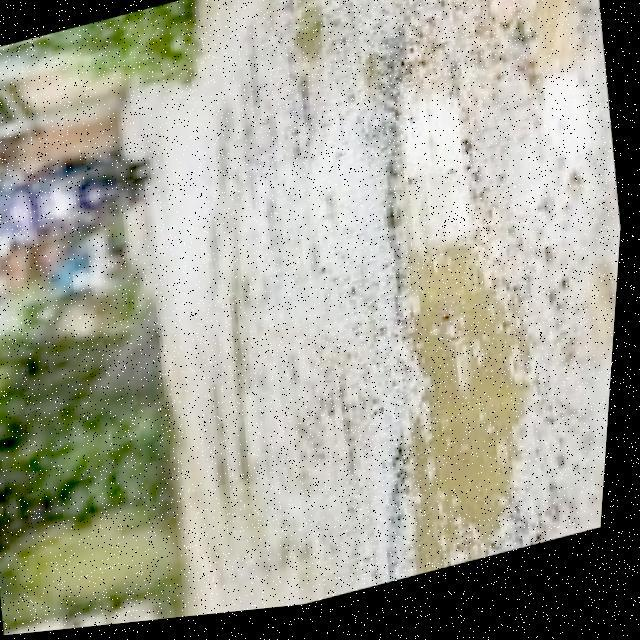pothole: (321, 0, 589, 596), (414, 0, 622, 196), (262, 0, 356, 137)
